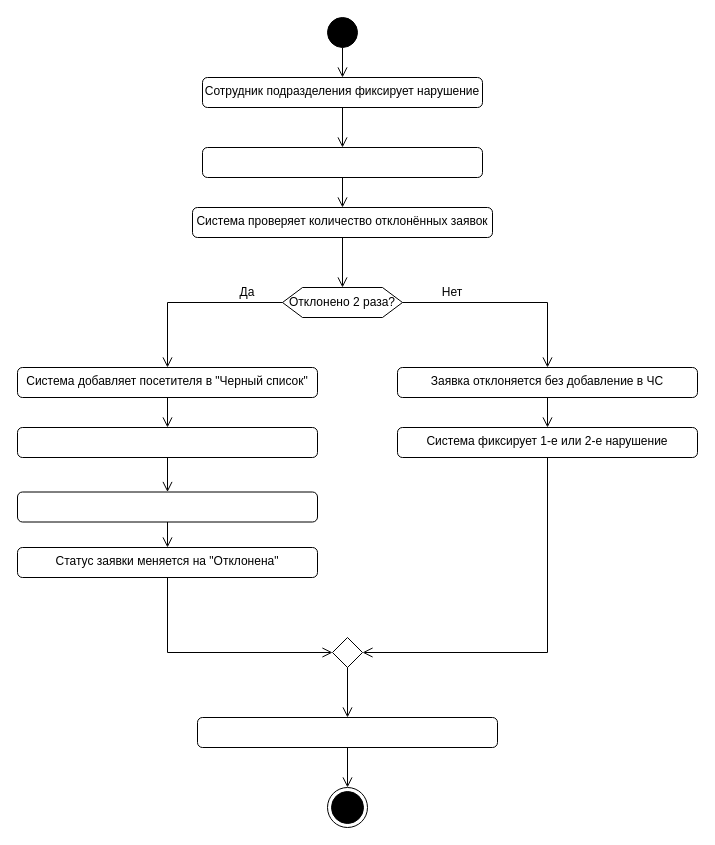
Some shapes in this 715 by 845 pixel diagram are drawn without their labels. Here are the shapes that lost their labels. From the top down, the centre of each, then its label:
At point 342,162: "Сотрудник открывает заявку посетителя".
At point 167,442: "Система сохраняет причину добавление".
At point 167,506: "Система уведомляет сотрудника о добавление в ЧС".
At point 347,732: "Система отправляет уведомление посетителю".
